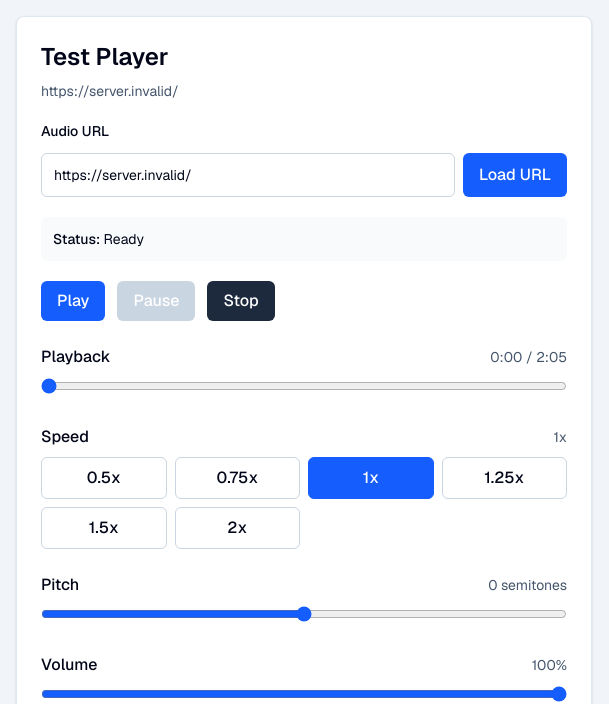
Test: Home Tone.js test player › updates speed and pitch controls
Expected: the text "Ready" is shown, x1=104 y1=230 x2=144 y2=248
Click the button "1.5x" at (104, 528), box x1=41 y1=507 x2=166 y2=549
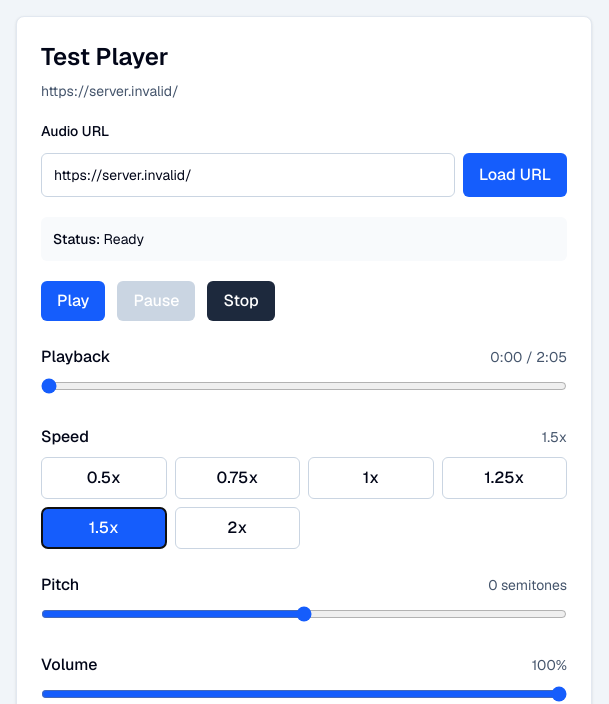
Expected: the text "1.5x" is shown 2 times, x1=542 y1=427 x2=567 y2=447; x1=41 y1=507 x2=166 y2=549
Set the slider labelled "Pitch" to "4" at (559, 614), box x1=41 y1=606 x2=567 y2=622
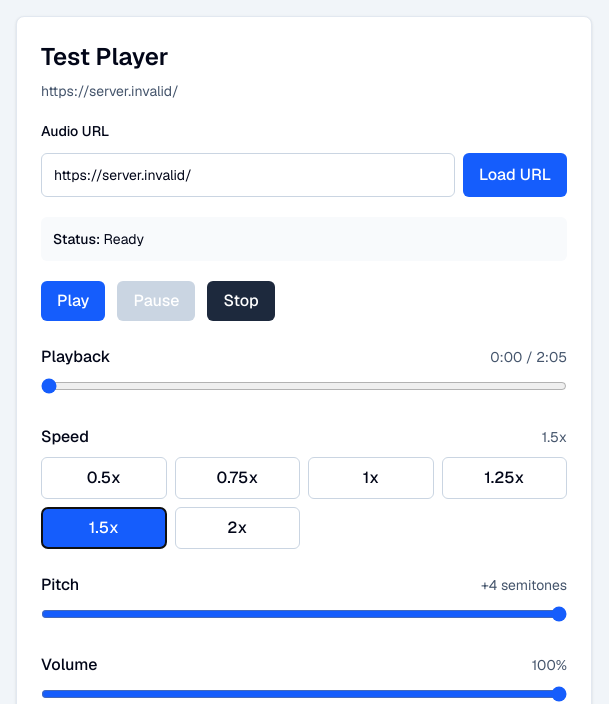
Now the text "+4 semitones" is shown, box x1=481 y1=575 x2=567 y2=595
